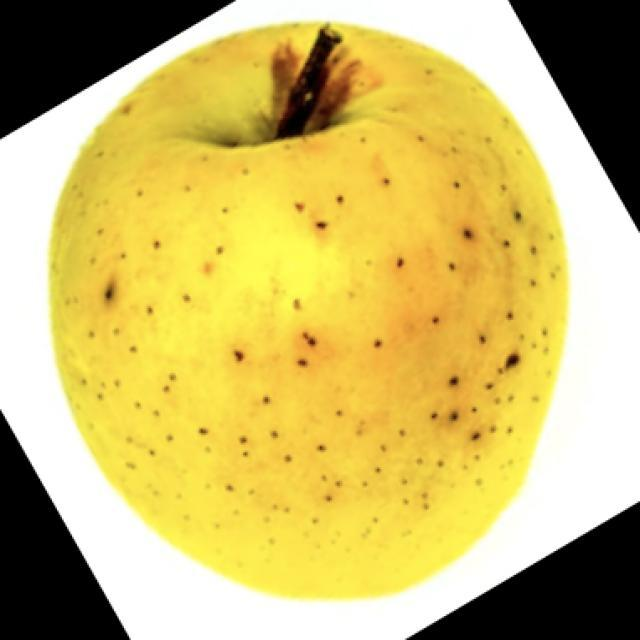Rotten: (69, 48, 548, 595)
